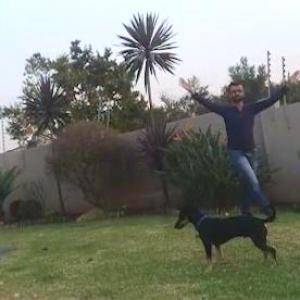takeoff: (185, 65, 299, 197)
